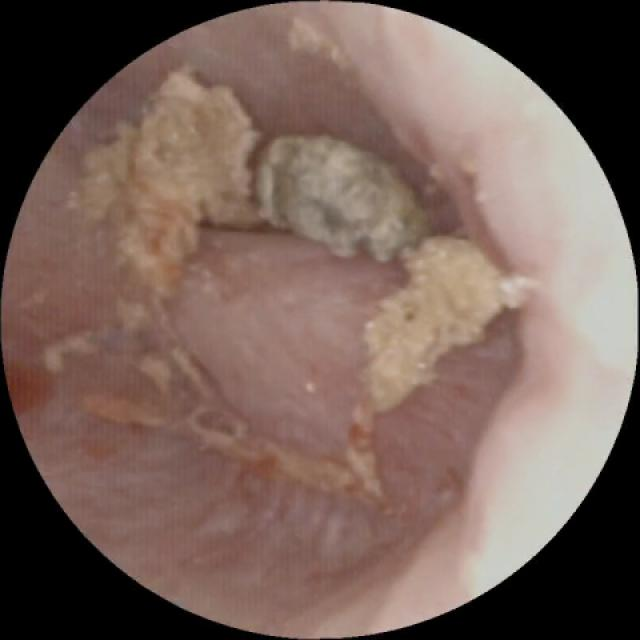stone: (71, 76, 258, 290), (367, 235, 523, 406), (260, 135, 433, 257)
tissue: (10, 25, 624, 630)
